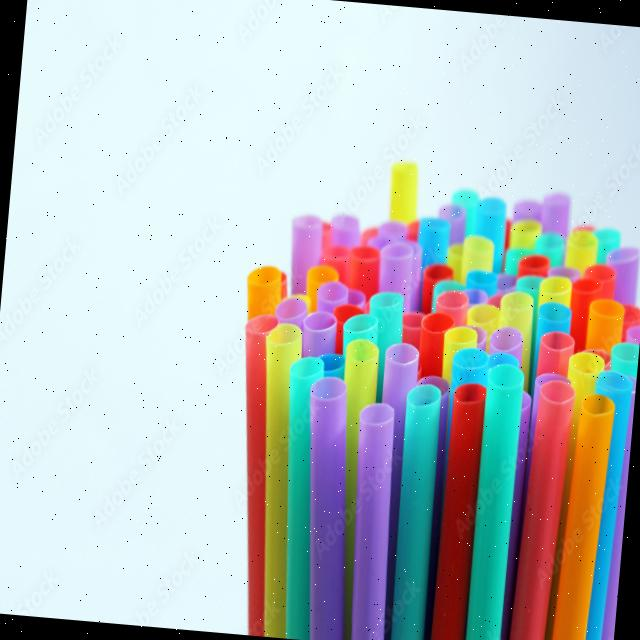plastic: (288, 363, 357, 640)
